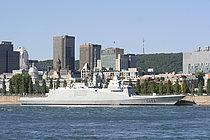MIL_Ship: (18, 75, 186, 106)
